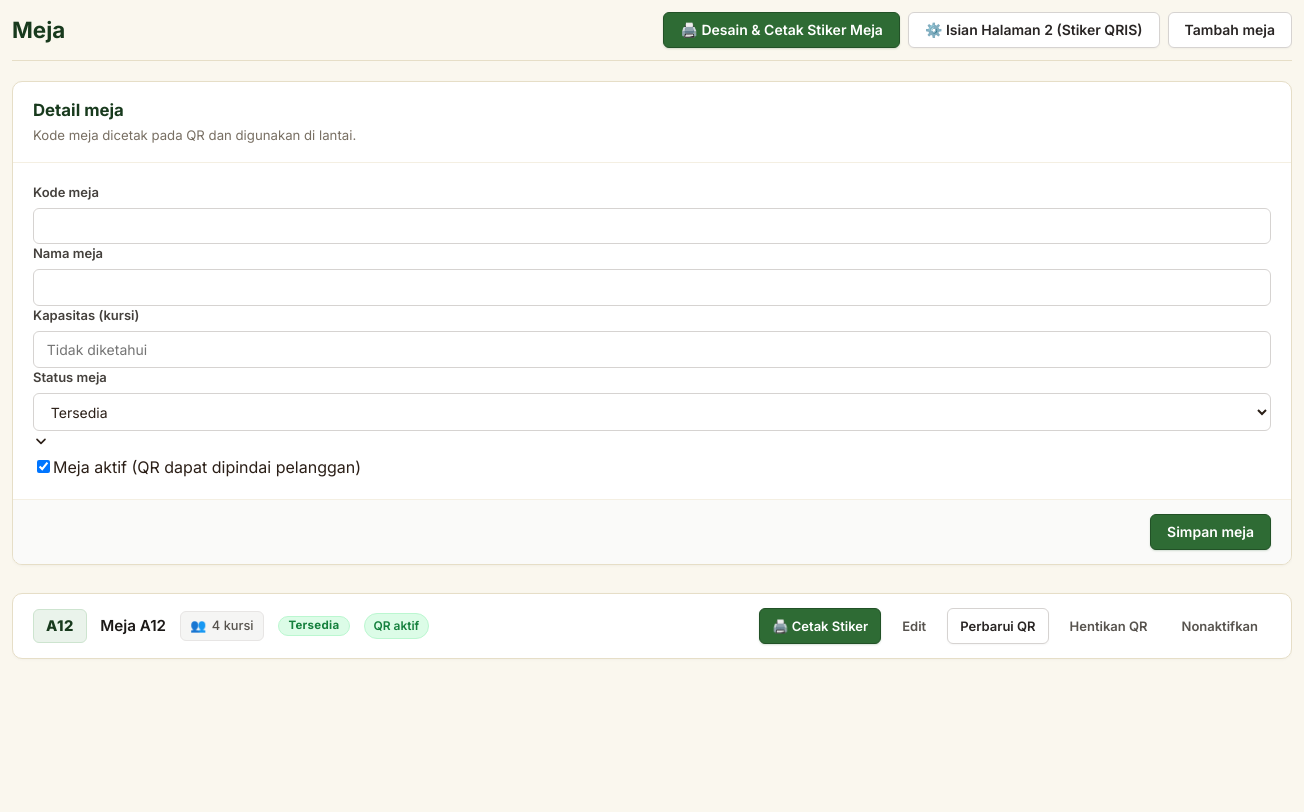
Test case: TablesPage › surfaces field errors from a rejected save
The width and height of the screenshot is (1304, 812).
Expected: the text "A12" is shown, x1=33 y1=609 x2=87 y2=643
What coordinates should you click on to do the following:
click the button "Tambah meja"
I would click on:
 (1230, 30)
Its box is x1=1168 y1=12 x2=1292 y2=48.
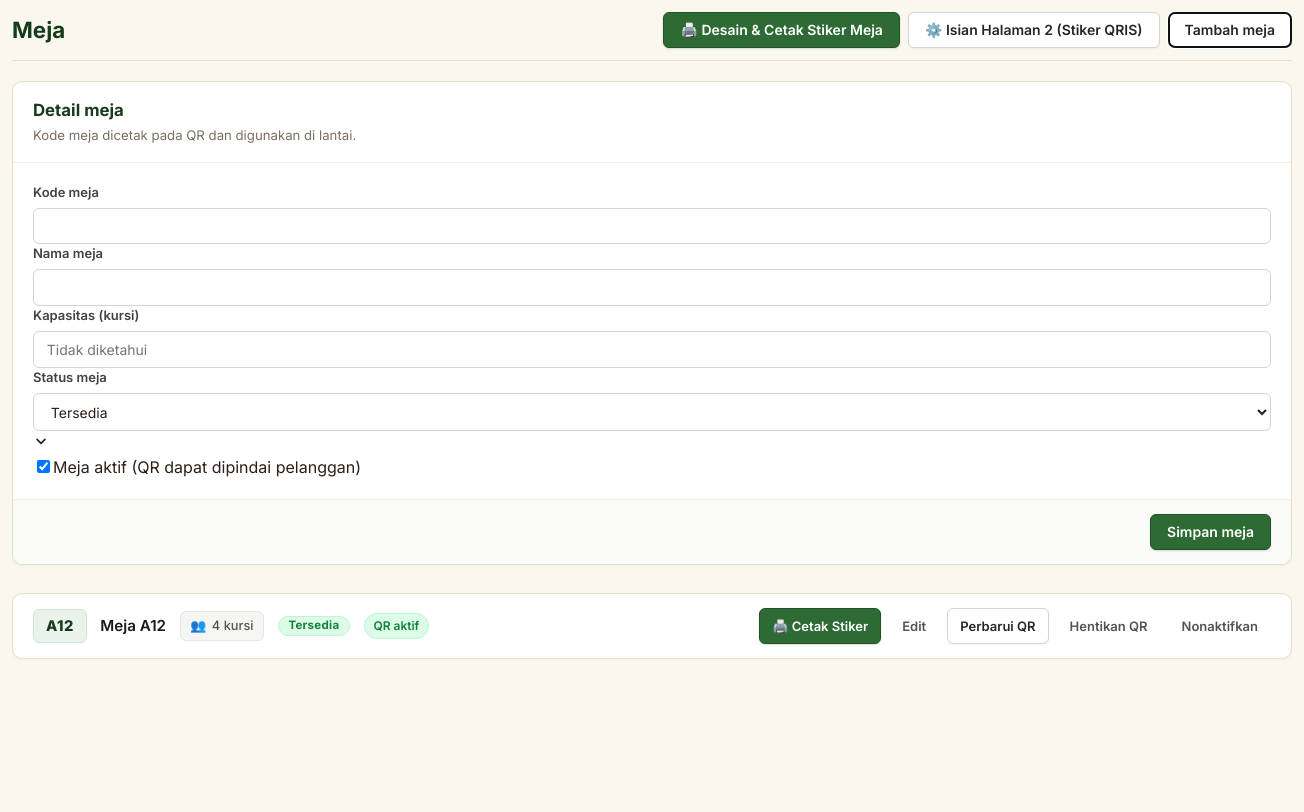
What coordinates should you click on to do the following:
click the button "Simpan meja"
I would click on:
 (1210, 532)
Its box is x1=1150 y1=514 x2=1271 y2=550.
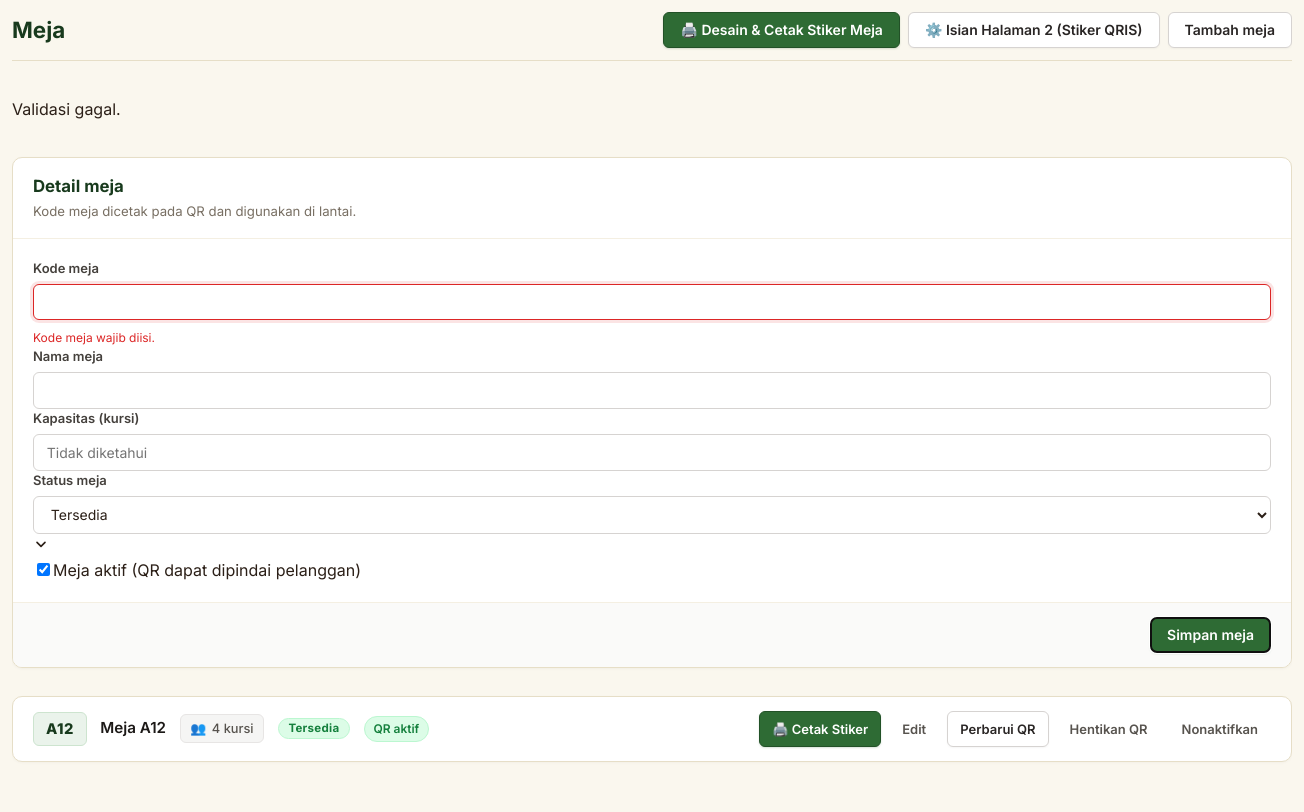
Expected: the text "Kode meja wajib diisi." is shown, x1=33 y1=330 x2=155 y2=345
